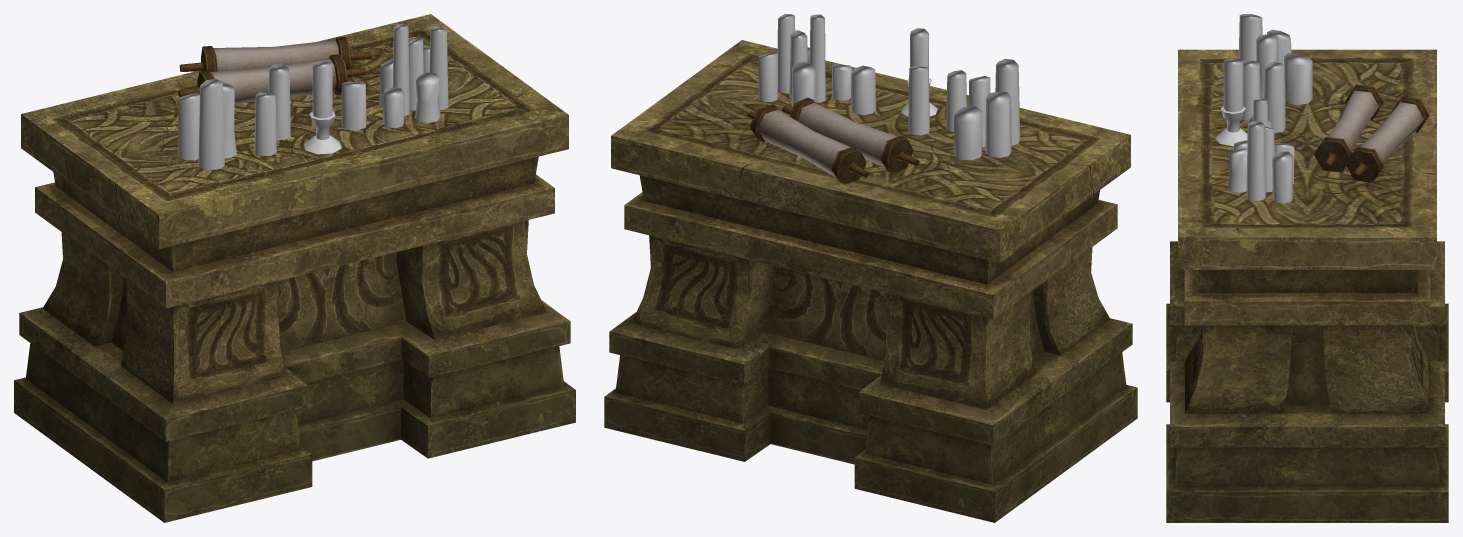
File: Stone_Altar_04.fbx
3 renders of one model, left to right at view 1: azimuth 30°, elevation 25°; view 2: azimuth 150°, elevation 25°; view 3: azimuth 270°, elevation 25°, orthographic. The views are drawn at different scales.
Parts seen in each view (by area): view 1: Stone_Altar_04; view 2: Stone_Altar_04; view 3: Stone_Altar_04.
Part boxes in pixels (x1,y1,x2,y2): Stone_Altar_04: (14, 14, 575, 522); Stone_Altar_04: (604, 14, 1137, 522); Stone_Altar_04: (1166, 14, 1448, 522).
Bounding box in the file's own units: 1.62 × 1.47 × 1.03.
